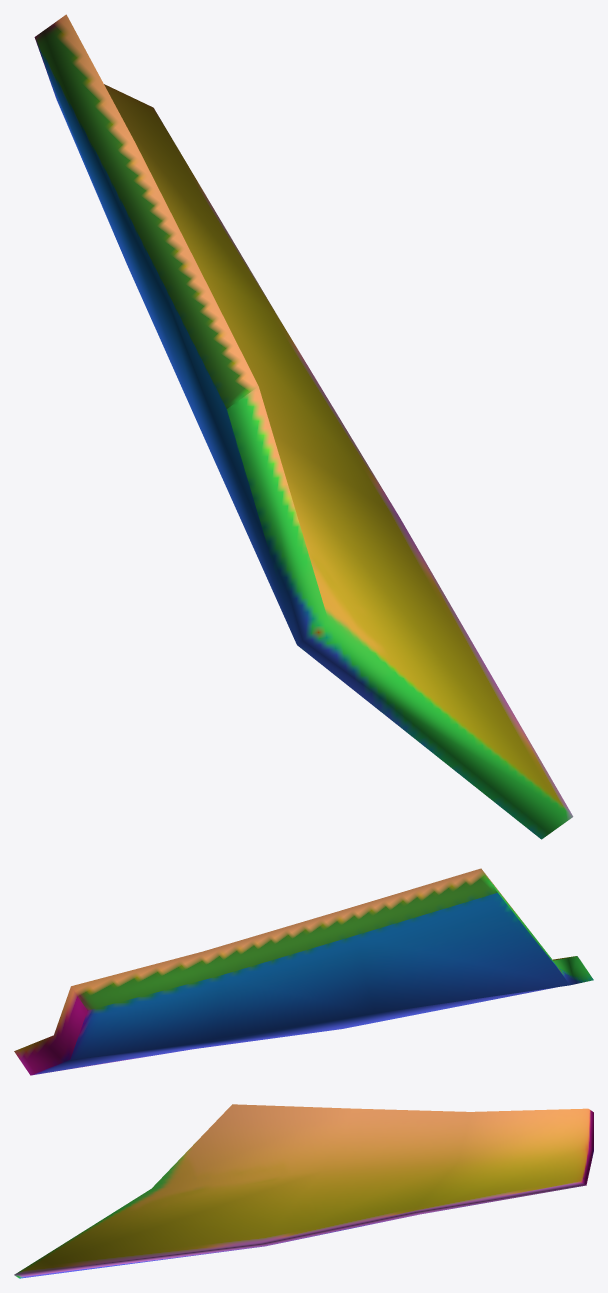
The model's file is ElipAla2Twin.obj.
3 renders of one model, top to bottom at view 1: azimuth 30°, elevation 25°; view 2: azimuth 150°, elevation 25°; view 3: azimuth 270°, elevation 25°, orthographic. The views are drawn at different scales.
Parts seen in each view (by area): view 1: Sphere.009_Sphere.007; view 2: Sphere.009_Sphere.007; view 3: Sphere.009_Sphere.007.
Part boxes in pixels (bbox=[...]): Sphere.009_Sphere.007: bbox=[34, 14, 573, 839]; Sphere.009_Sphere.007: bbox=[14, 868, 593, 1075]; Sphere.009_Sphere.007: bbox=[14, 1104, 593, 1278].
Bounding box in the file's own units: 0.486 × 0.6381 × 1.74.
